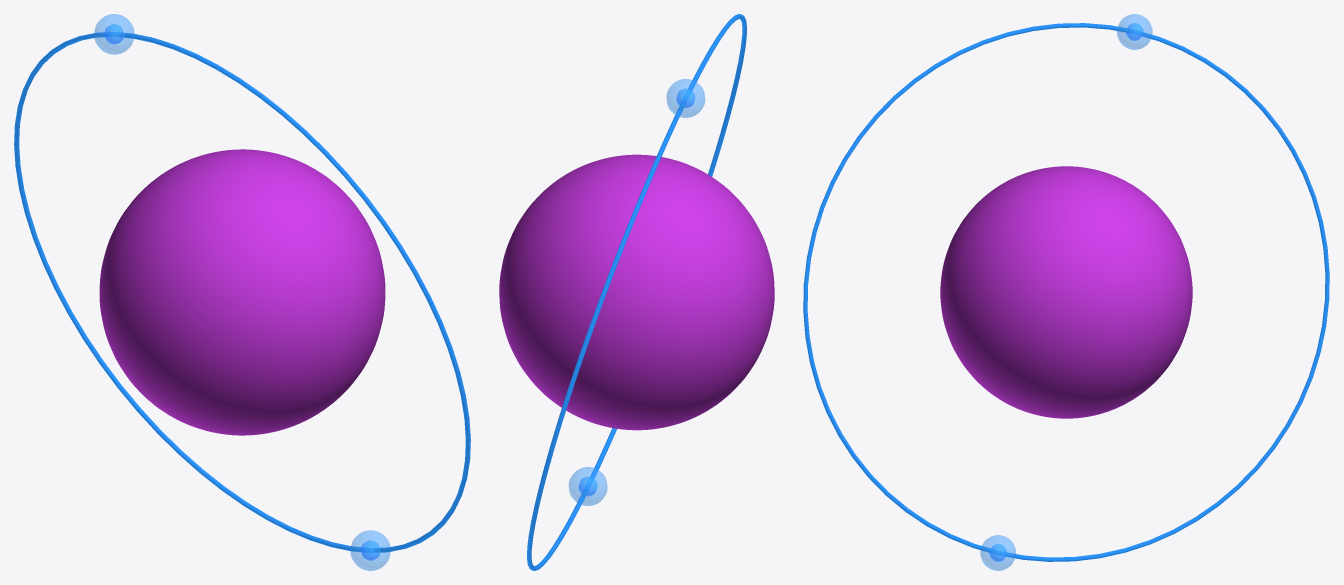
3 renders of one model, left to right at view 1: azimuth 30°, elevation 25°; view 2: azimuth 150°, elevation 25°; view 3: azimuth 270°, elevation 25°, orthographic. The views are drawn at different scales.
Parts seen in each view (by area): view 1: He, object 2, object 3, object 5; view 2: He, object 2, object 3, object 5; view 3: He, object 2, object 3, object 5.
Boxes of the visible parts, box(x1,y1,x2,y2) form: He: box(99, 149, 385, 435); object 2: box(14, 32, 470, 552); object 3: box(94, 14, 134, 54); object 5: box(350, 530, 390, 570); He: box(499, 154, 774, 430); object 2: box(527, 14, 746, 570); object 3: box(666, 79, 705, 117); object 5: box(568, 467, 607, 505); He: box(940, 166, 1192, 418); object 2: box(803, 23, 1329, 561); object 3: box(1117, 14, 1152, 49); object 5: box(980, 535, 1015, 570).
Size of the model in its own units: 1.12 by 2.34 by 2.34.
